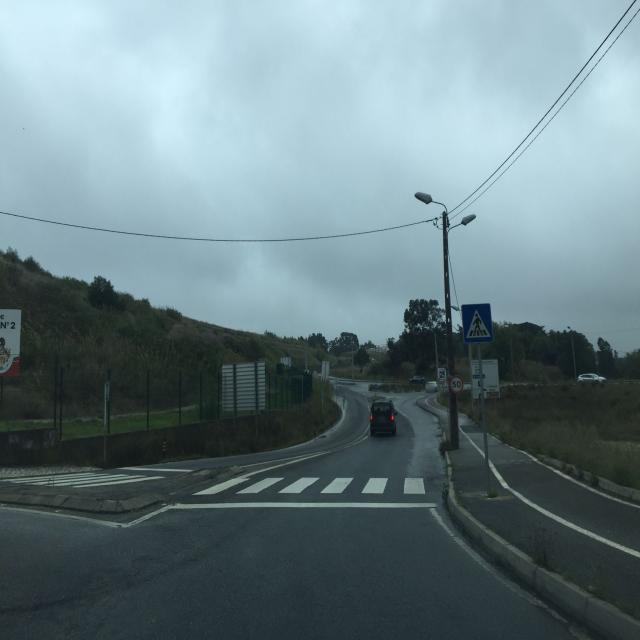car: (368, 398, 398, 436), (577, 372, 607, 385), (425, 380, 439, 393), (409, 375, 426, 385)
